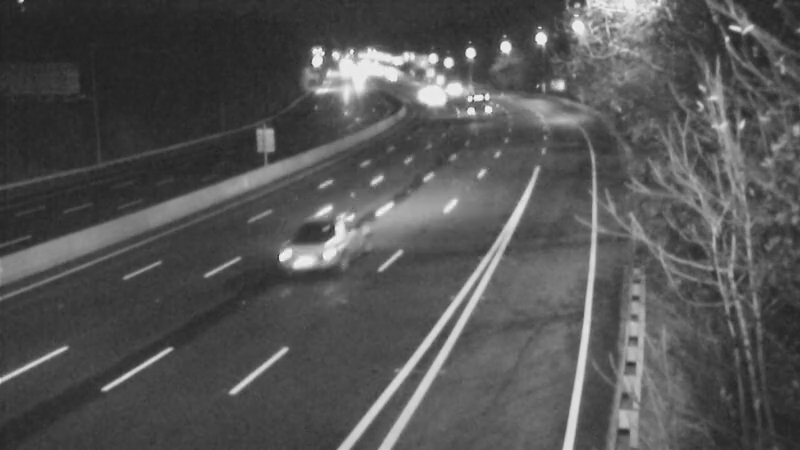vehicle: (267, 199, 347, 279), (427, 63, 477, 113), (411, 73, 461, 123), (451, 80, 501, 130)
